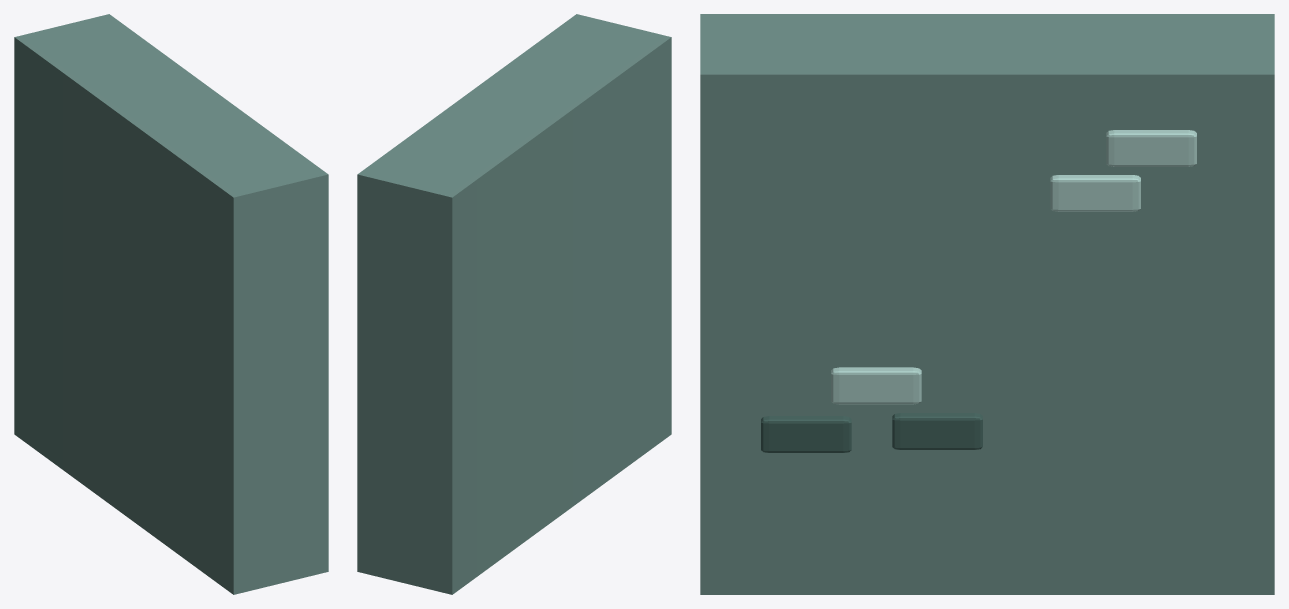
The model's file is wall_t2.fbx.
The picture shows the model from 3 angles, left to right: view 1: azimuth 30°, elevation 25°; view 2: azimuth 150°, elevation 25°; view 3: azimuth 270°, elevation 25°; orthographic projection. The views are drawn at different scales.
Parts seen in each view (by area): view 1: wall 2; view 2: wall 2; view 3: wall 2.
Part boxes in pixels (x1,y1,x2,y2): wall 2: [14, 14, 328, 594]; wall 2: [357, 14, 671, 594]; wall 2: [700, 14, 1274, 594].
Bounding box in the file's own units: 107 × 400 × 400.
